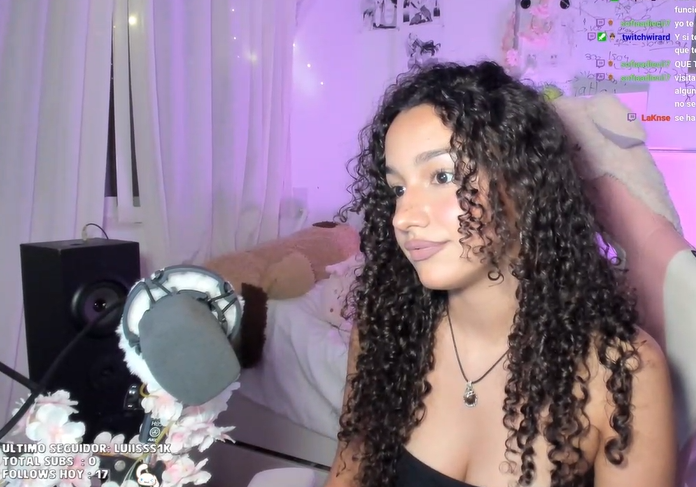person: (320, 59, 681, 485)
